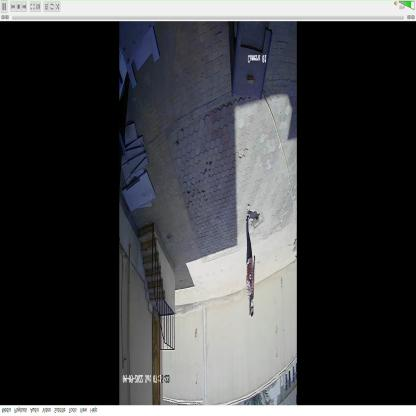handgun: (248, 284, 253, 319)
